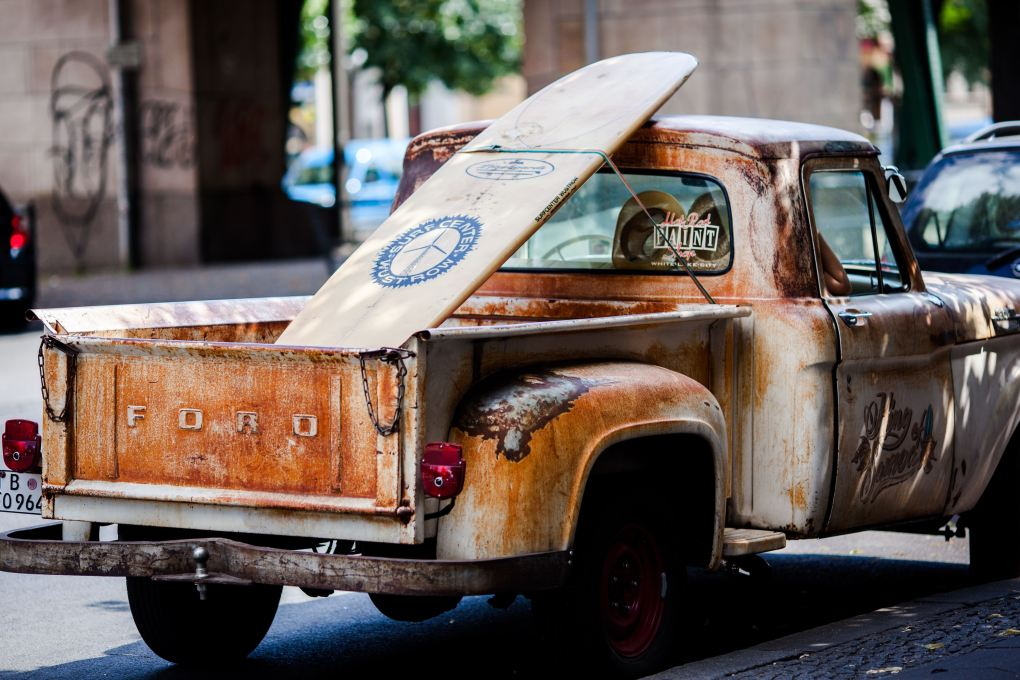rust: (61, 345, 394, 494), (455, 373, 592, 443), (484, 279, 680, 314), (765, 199, 817, 299)
